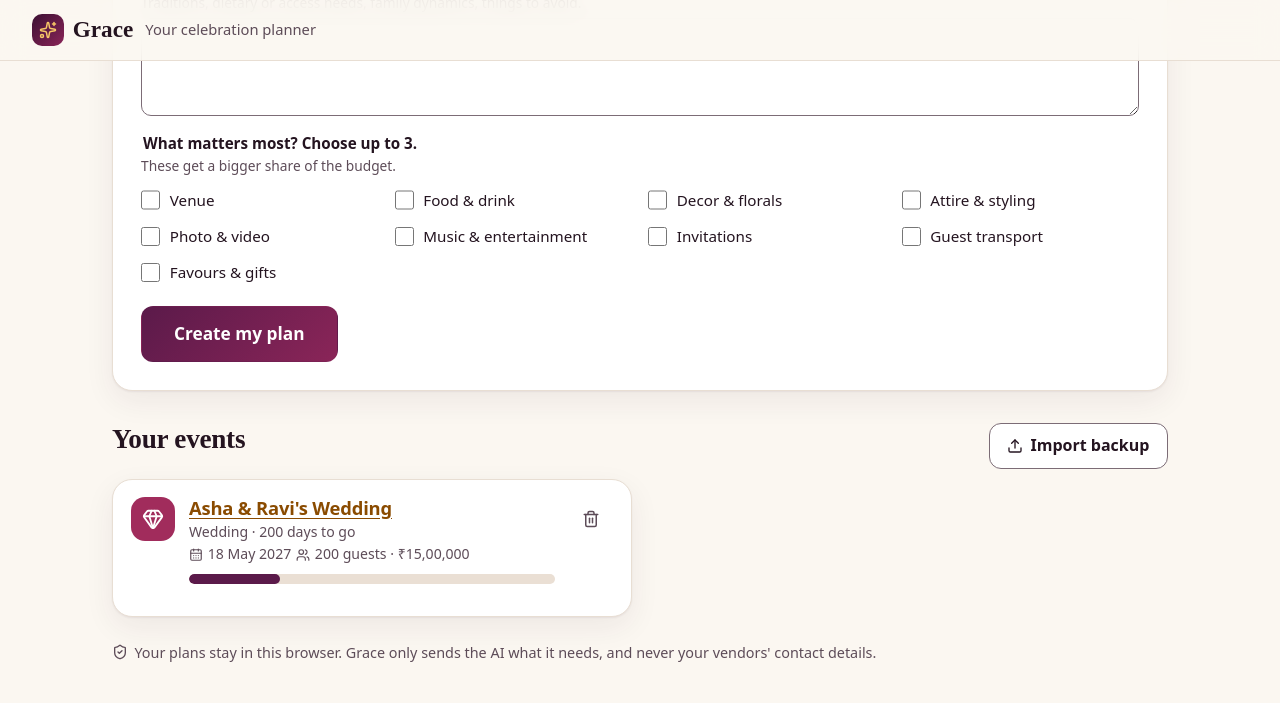
Test case: saved plans › asks before deleting, and can be cancelled
(page scrolled)
Click the button named "Delete Asha & Ravi's Wedding". click: (591, 519)
box: left=569, top=497, right=613, bottom=541
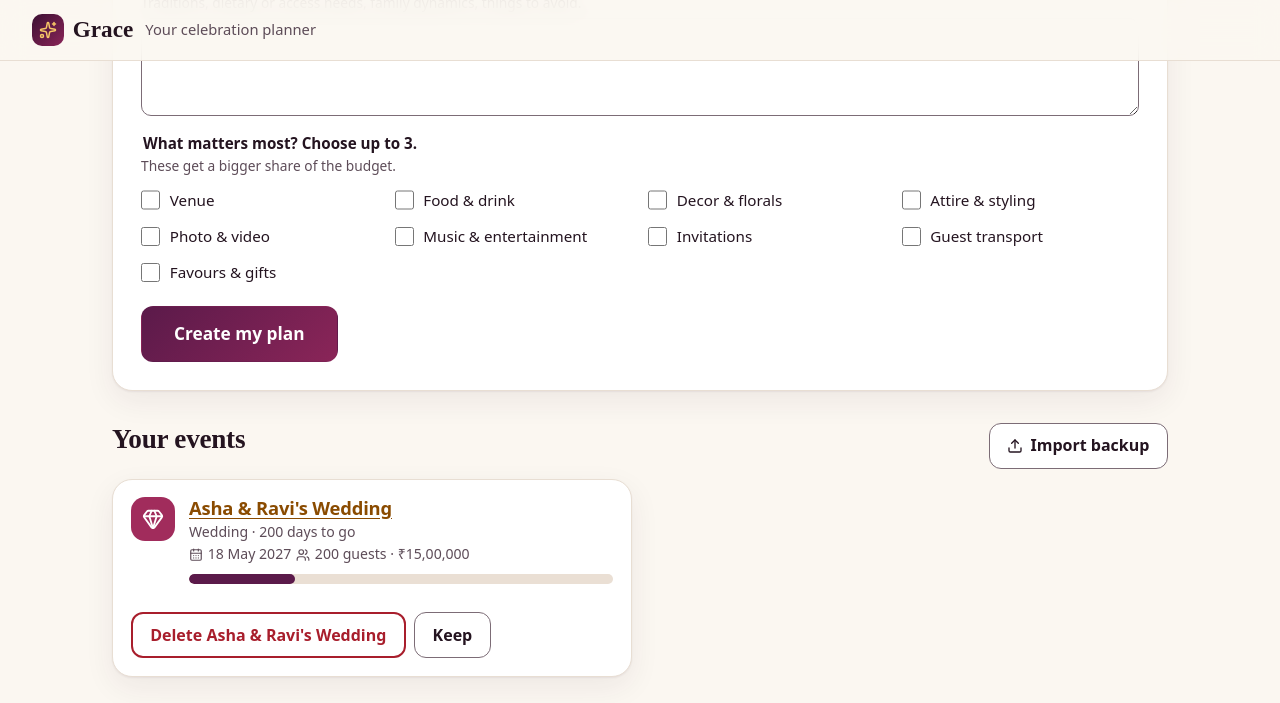
Click the button "Keep". click: (452, 635)
box: left=414, top=612, right=491, bottom=658
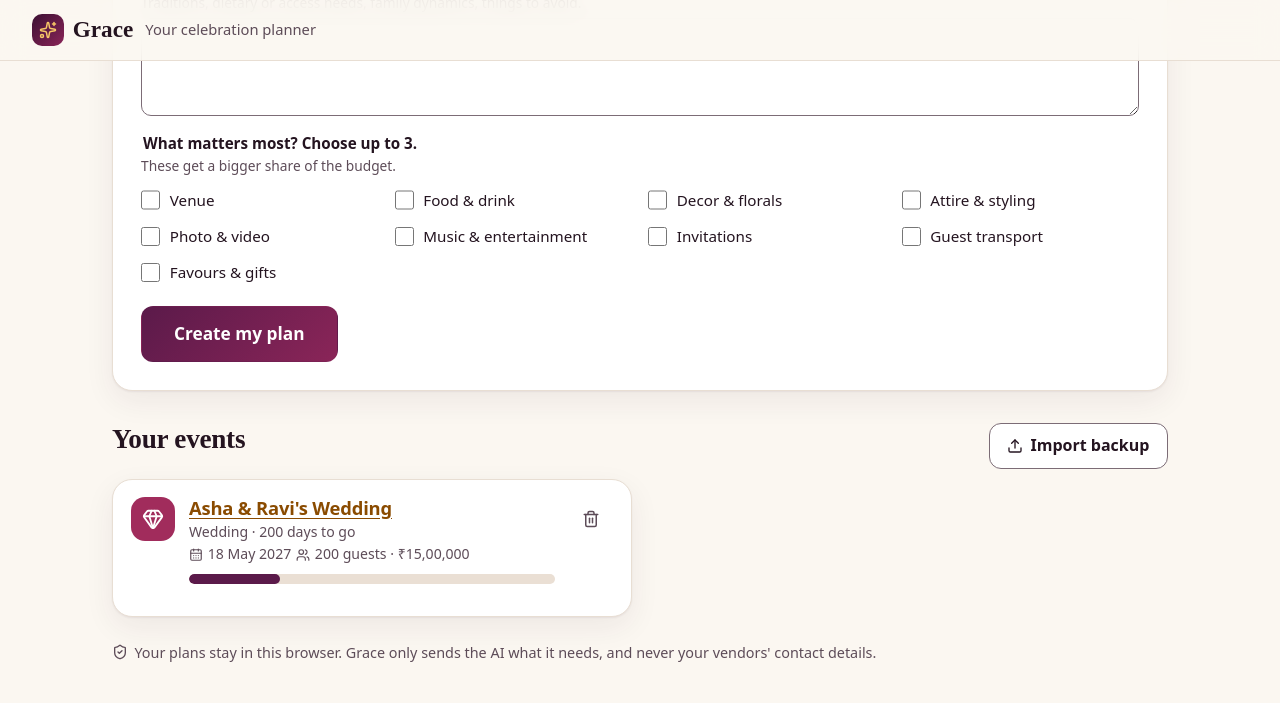
Click the button named "Delete Asha & Ravi's Wedding". click: (591, 519)
box: left=569, top=497, right=613, bottom=541
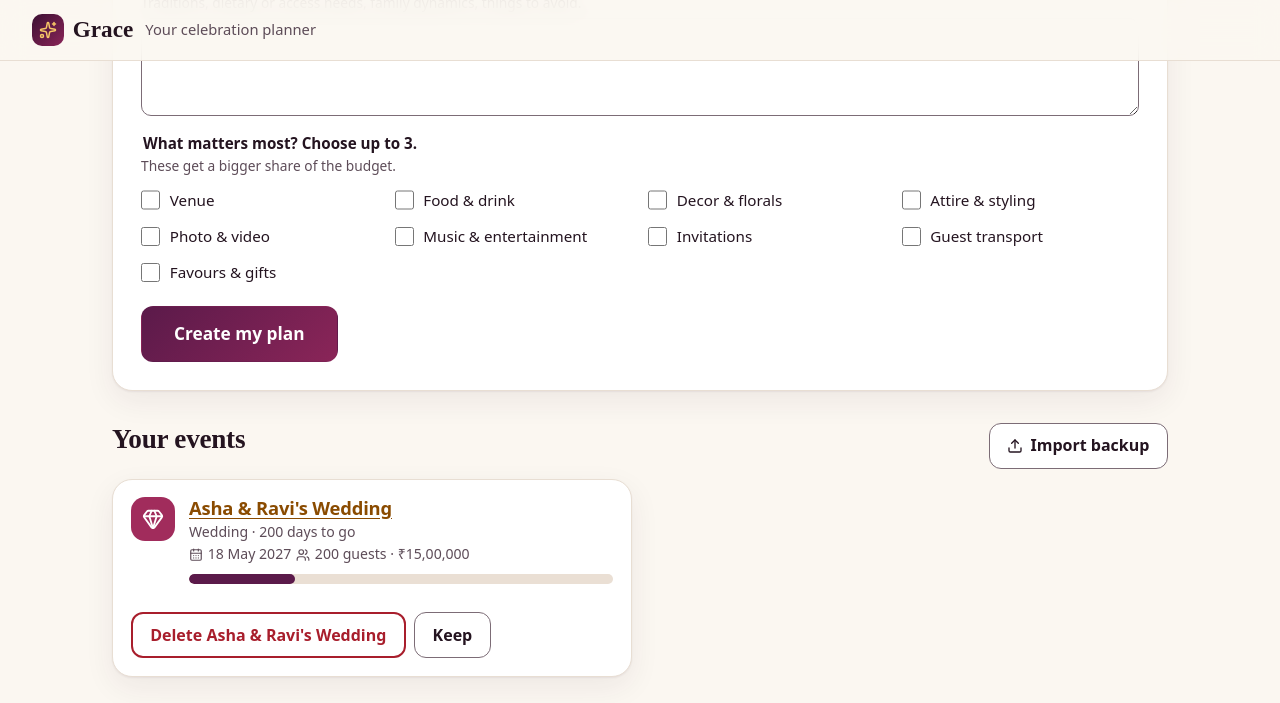
Click the button "Delete Asha & Ravi's Wedding". click: (268, 635)
box: left=131, top=612, right=406, bottom=658
(page scrolled)
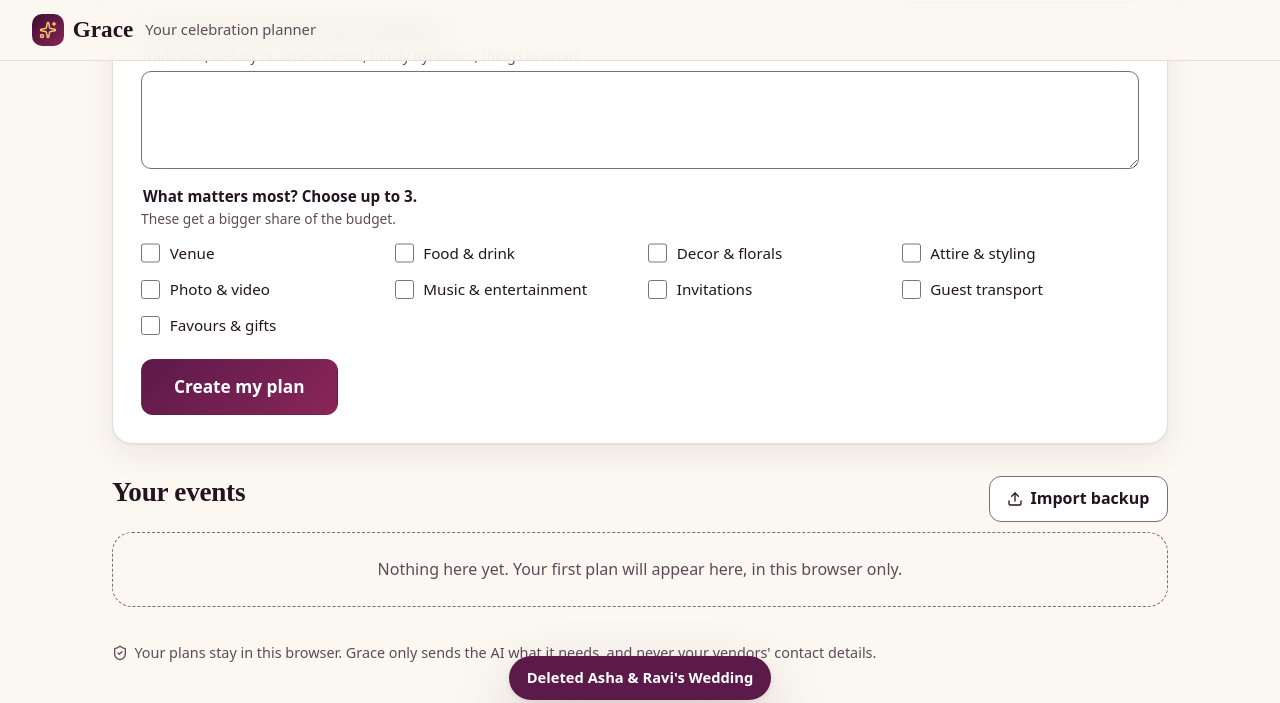
Result: the message with test id "announcer" shows "Deleted" at left=527, top=667, right=753, bottom=687
